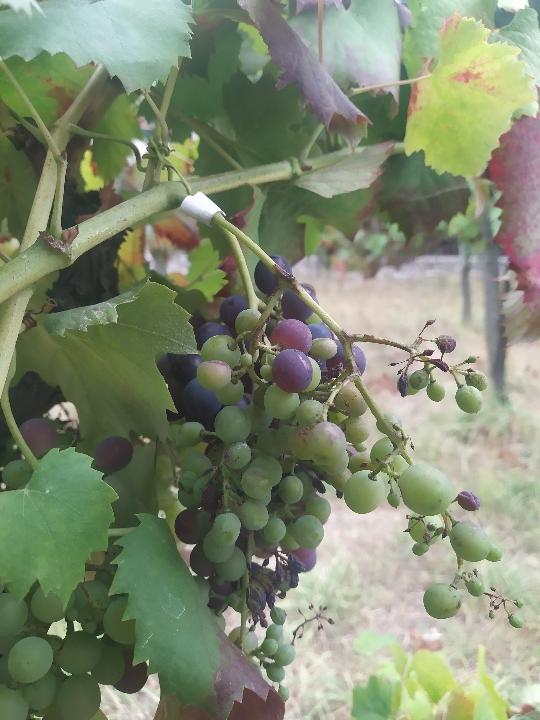grape: (162, 251, 526, 704)
